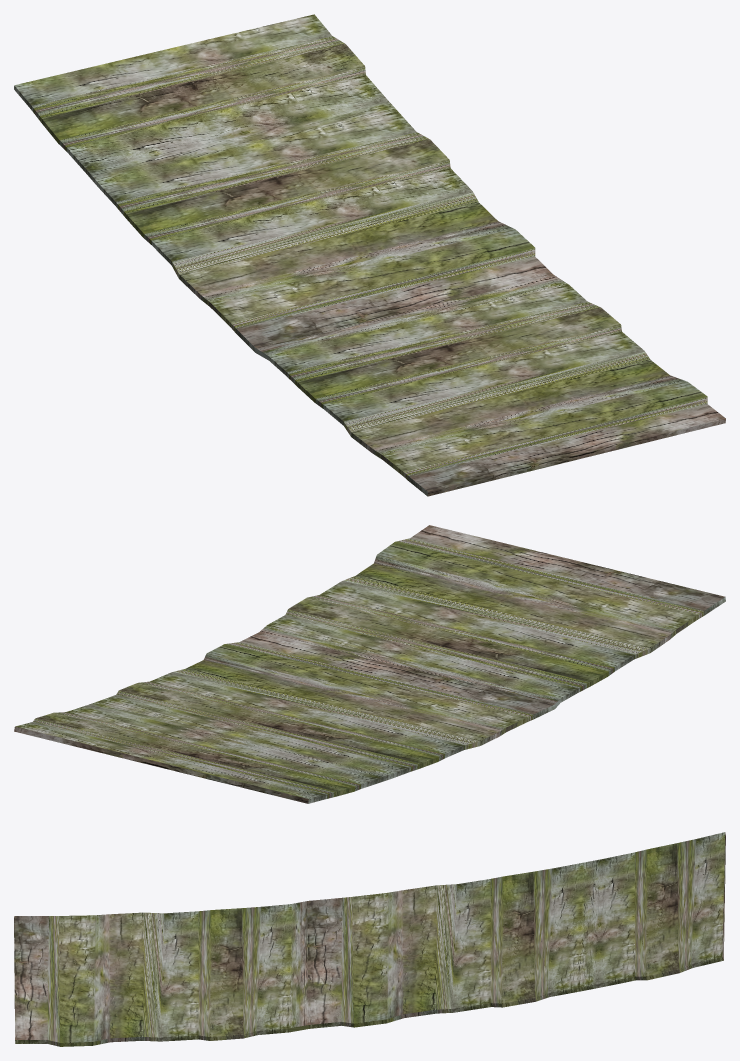
The model's file is RAMP-002.fbx.
3 views of the same model, one above another, from view 1: azimuth 30°, elevation 25°; view 2: azimuth 150°, elevation 25°; view 3: azimuth 270°, elevation 25° (orthographic). The views are drawn at different scales.
Parts seen in each view (by area): view 1: ramp_002; view 2: ramp_002; view 3: ramp_002.
Boxes of the visible parts, left/top/right/bottom form: ramp_002: left=14, top=14, right=725, bottom=496; ramp_002: left=14, top=525, right=725, bottom=803; ramp_002: left=14, top=832, right=725, bottom=1046.
Bounding box in the file's own units: 206 × 66.95 × 484.
